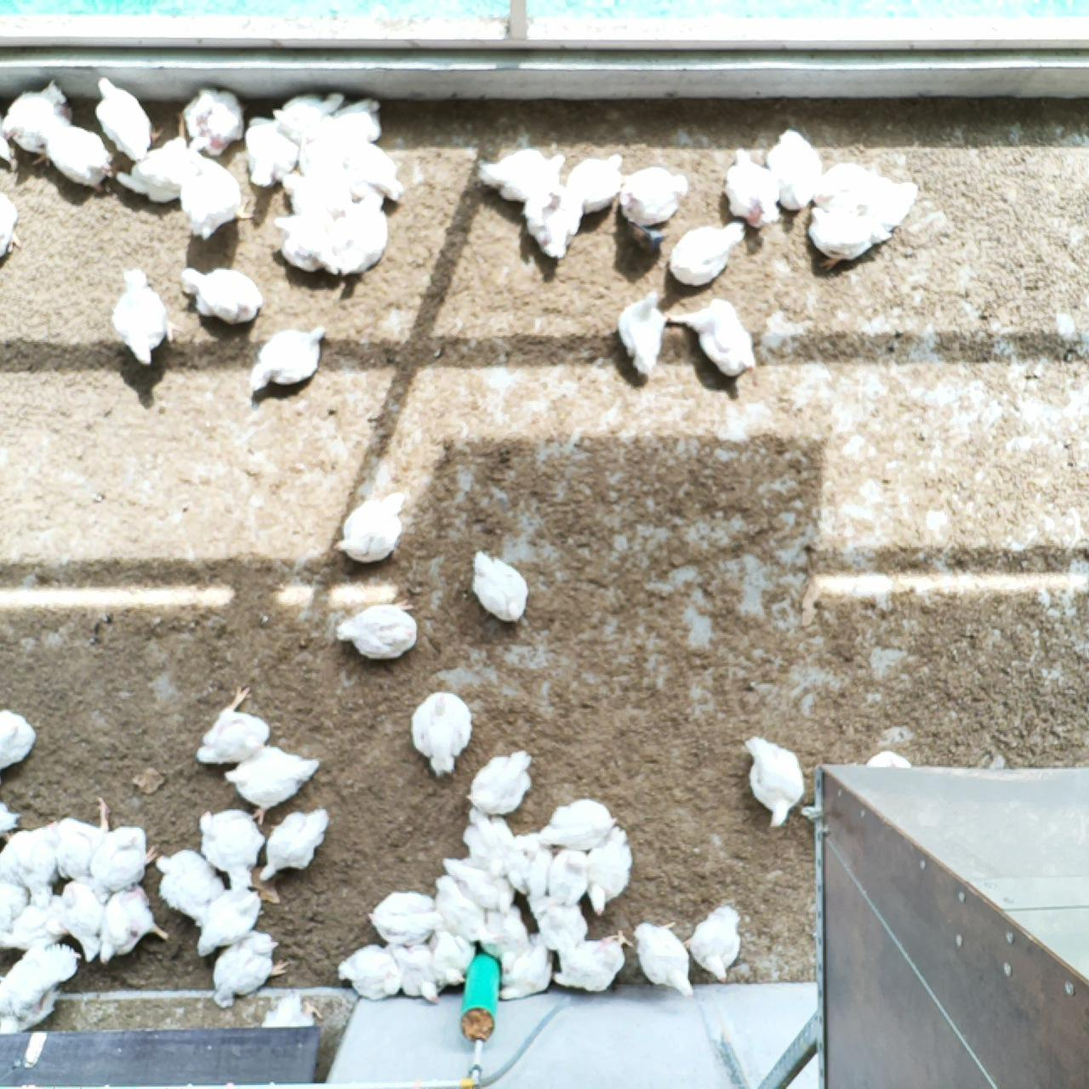chicken: (801, 157, 924, 232), (221, 741, 322, 827), (113, 112, 202, 204), (665, 294, 757, 379), (175, 142, 254, 240), (109, 266, 181, 370), (737, 732, 809, 833), (208, 923, 292, 1009), (193, 683, 275, 771), (0, 938, 83, 1024), (323, 187, 395, 280), (803, 205, 894, 278), (0, 77, 71, 170), (97, 877, 168, 968), (326, 486, 411, 562), (475, 141, 567, 207), (331, 596, 420, 664), (409, 686, 476, 776), (56, 793, 121, 883), (258, 803, 331, 883), (246, 324, 329, 394), (721, 146, 789, 230), (199, 809, 264, 896), (628, 916, 696, 998), (610, 164, 690, 233), (176, 263, 262, 327), (42, 117, 114, 193), (153, 848, 225, 924), (89, 824, 167, 893), (551, 927, 630, 995), (91, 76, 152, 164), (464, 746, 536, 820), (668, 220, 747, 287), (520, 181, 586, 261), (197, 883, 266, 959), (336, 128, 408, 200), (539, 794, 619, 856), (371, 889, 455, 948), (239, 110, 303, 187), (582, 824, 635, 916), (765, 128, 823, 212), (386, 936, 451, 1010), (440, 853, 520, 913), (0, 889, 76, 952), (270, 208, 340, 276), (467, 550, 529, 626), (687, 901, 743, 984), (616, 288, 667, 378), (502, 825, 557, 907), (182, 85, 246, 155), (272, 89, 348, 147), (493, 930, 551, 1006), (4, 821, 66, 891), (458, 803, 517, 875), (338, 940, 406, 1002), (3, 889, 72, 949), (431, 870, 486, 945), (59, 879, 108, 963), (562, 151, 624, 217), (275, 165, 351, 214), (318, 91, 386, 141), (425, 925, 477, 988), (479, 899, 530, 963), (533, 890, 589, 946), (299, 118, 350, 178), (547, 841, 594, 906), (0, 705, 39, 771), (0, 871, 31, 933), (0, 190, 26, 262), (864, 748, 916, 779), (0, 798, 22, 847)
